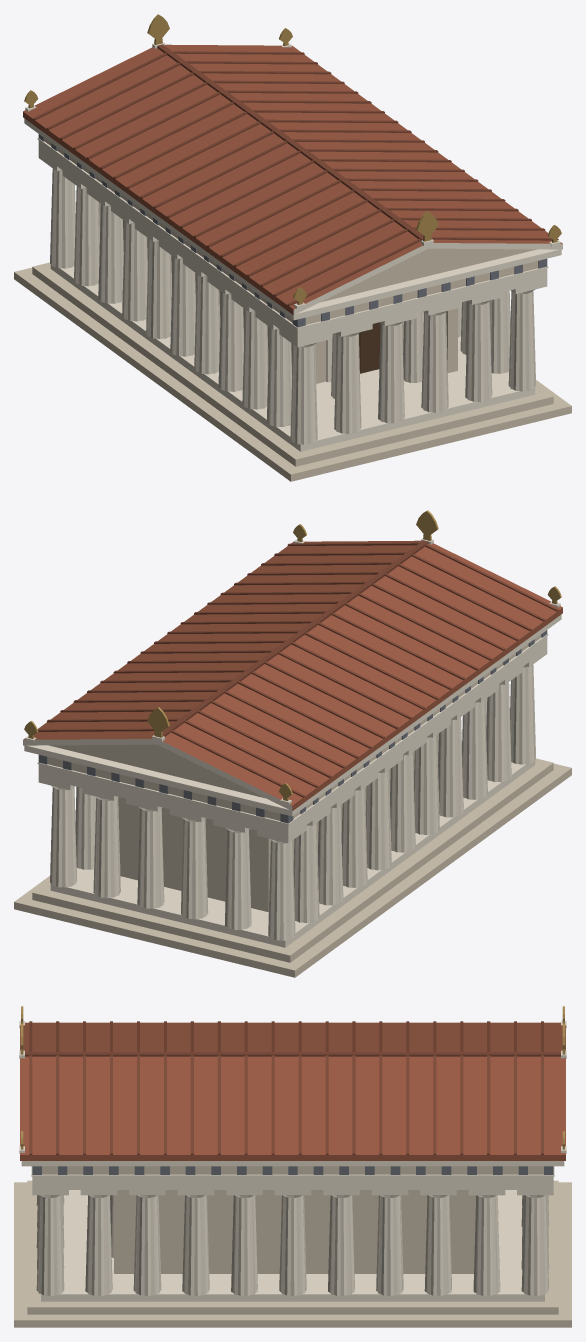
File: greek-temple.glb
3 renders of one model, top to bottom at view 1: azimuth 30°, elevation 25°; view 2: azimuth 150°, elevation 25°; view 3: azimuth 270°, elevation 25°, orthographic.
Visible parts, largest first — view 1: greek-temple; view 2: greek-temple; view 3: greek-temple.
Part boxes in pixels (x1,y1,x2,y2): greek-temple: [14, 14, 571, 481]; greek-temple: [14, 510, 571, 977]; greek-temple: [14, 1006, 571, 1327].
Bounding box in the file's own units: 17 × 13.48 × 29.
